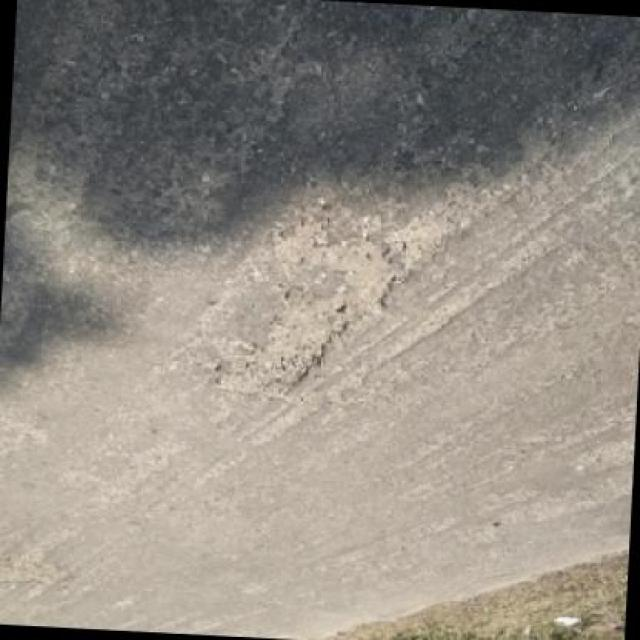pothole1: (210, 215, 410, 408)
